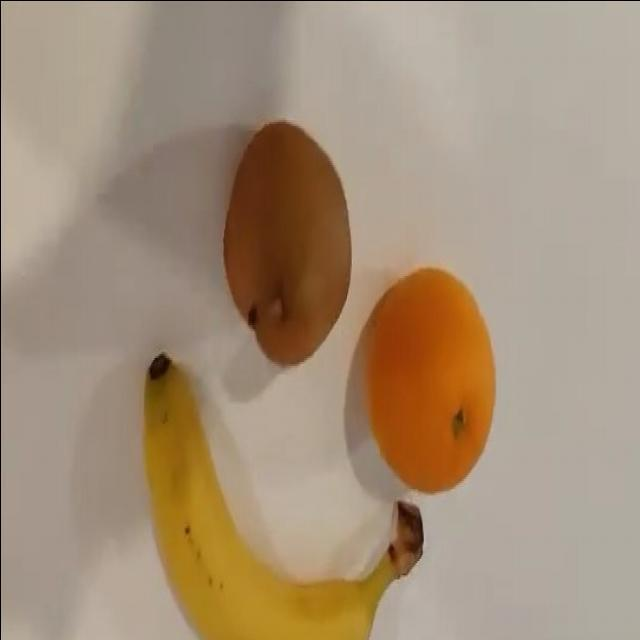Banana: (138, 352, 417, 640)
Orange: (364, 264, 501, 494)
